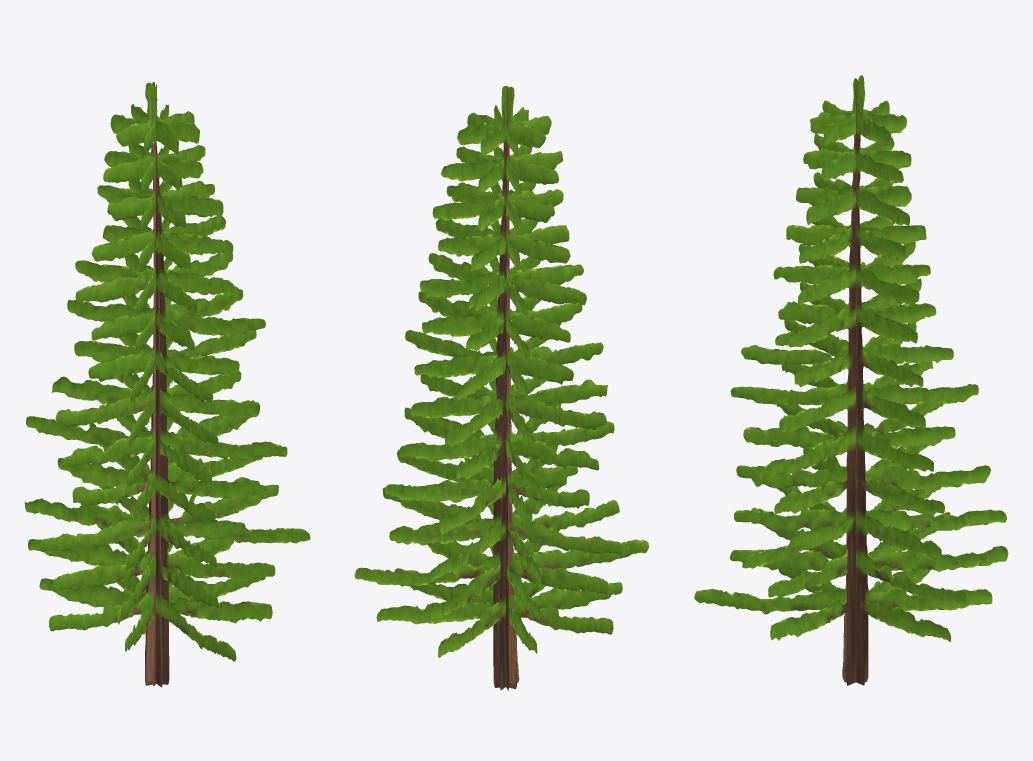
The model's file is b-cedar.glb.
3 views of the same model, side by side, from view 1: azimuth 30°, elevation 25°; view 2: azimuth 150°, elevation 25°; view 3: azimuth 270°, elevation 25° (orthographic).
Parts seen in each view (by area): view 1: BackgroundTree; view 2: BackgroundTree; view 3: BackgroundTree.
Boxes of the visible parts, <box> form: BackgroundTree: <box>24,81,310,687</box>; BackgroundTree: <box>354,86,648,690</box>; BackgroundTree: <box>694,75,1008,685</box>.
Size of the model in its own units: 1.09 by 2.45 by 1.22.
Materials: 1 (1 with a texture image).
